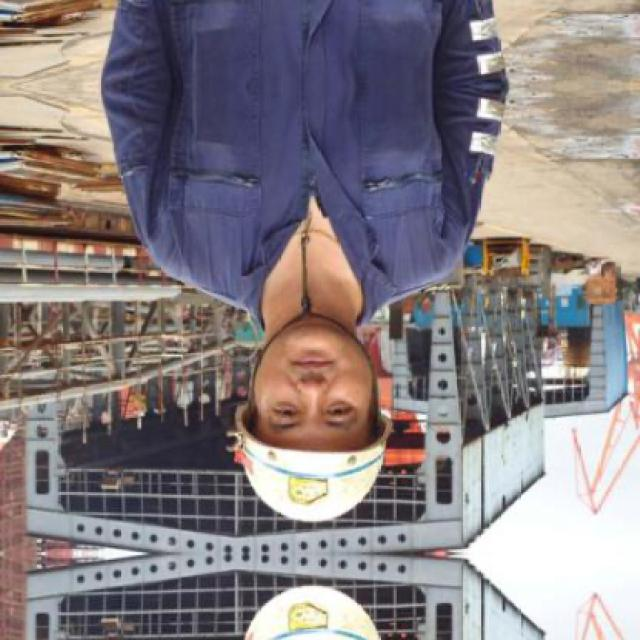con casco: (210, 342, 400, 541)
